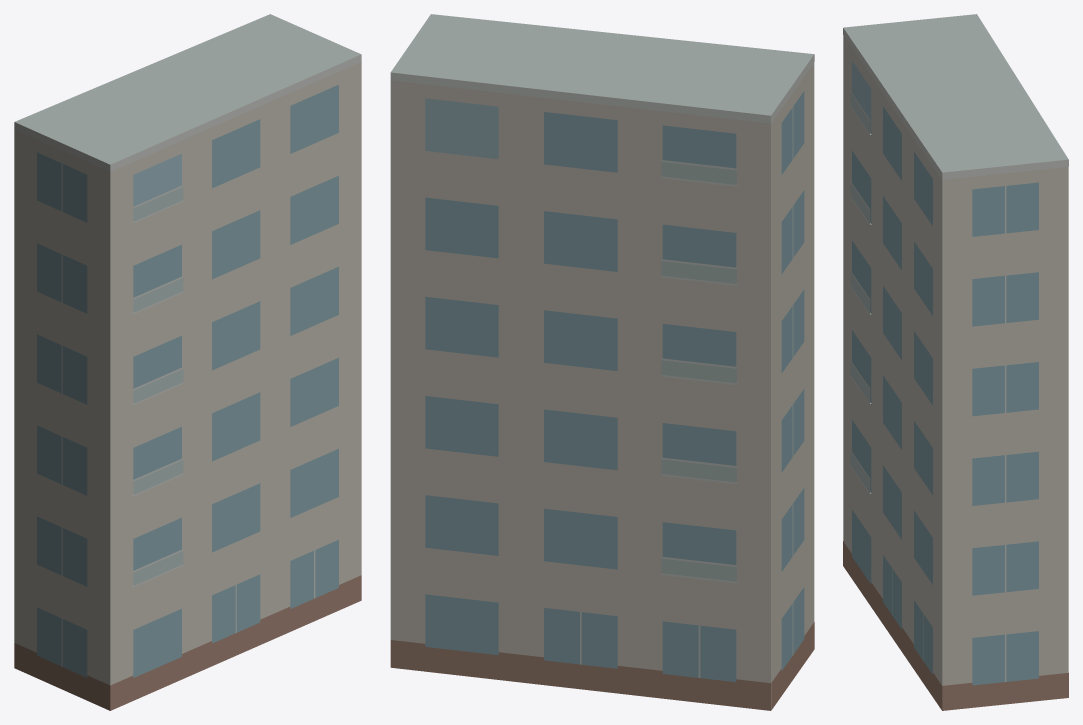
File: survey-upis-32930786.glb
3 views of the same model, side by side, from view 1: azimuth 30°, elevation 25°; view 2: azimuth 150°, elevation 25°; view 3: azimuth 270°, elevation 25° (orthographic). The views are drawn at different scales.
Visible parts, largest first — view 1: survey-upis-32930786.tmp; view 2: survey-upis-32930786.tmp; view 3: survey-upis-32930786.tmp.
Part boxes in pixels (left/top/right/bottom): survey-upis-32930786.tmp: left=14, top=14, right=361, bottom=710; survey-upis-32930786.tmp: left=390, top=14, right=814, bottom=710; survey-upis-32930786.tmp: left=843, top=14, right=1068, bottom=710.
Bounding box in the file's own units: 11.57 × 18.3 × 6.96.
